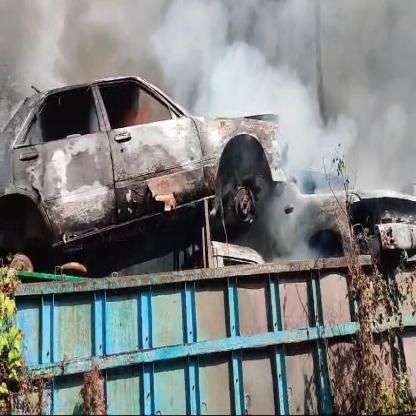Smoke: (0, 1, 416, 254)
